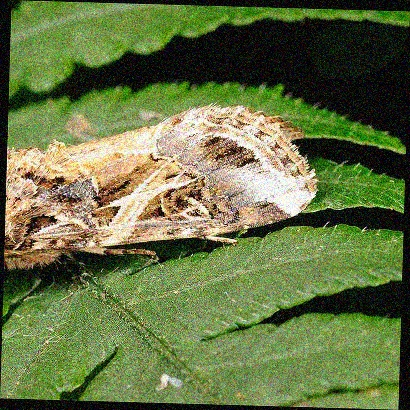Spodoptera litura: (6, 100, 319, 275)
